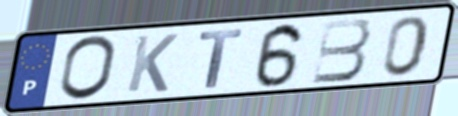0: (381, 14, 433, 77)
6: (254, 21, 308, 89)
B: (310, 16, 374, 86)
K: (123, 32, 181, 95)
O: (56, 34, 119, 103)
T: (197, 26, 245, 90)
